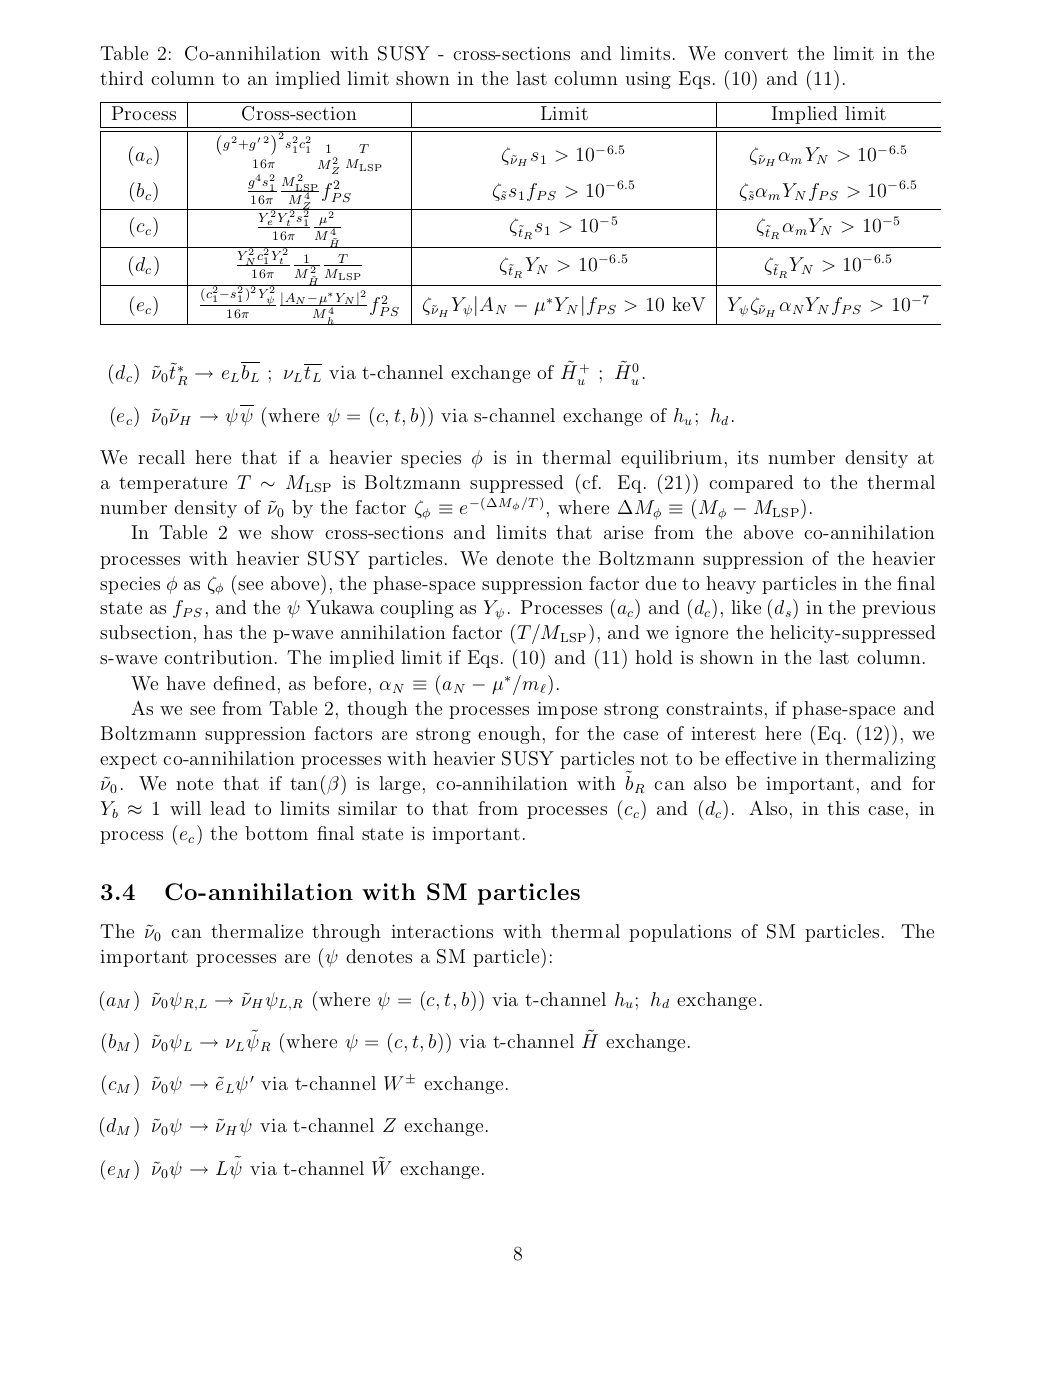Table: (100, 101, 940, 325)
